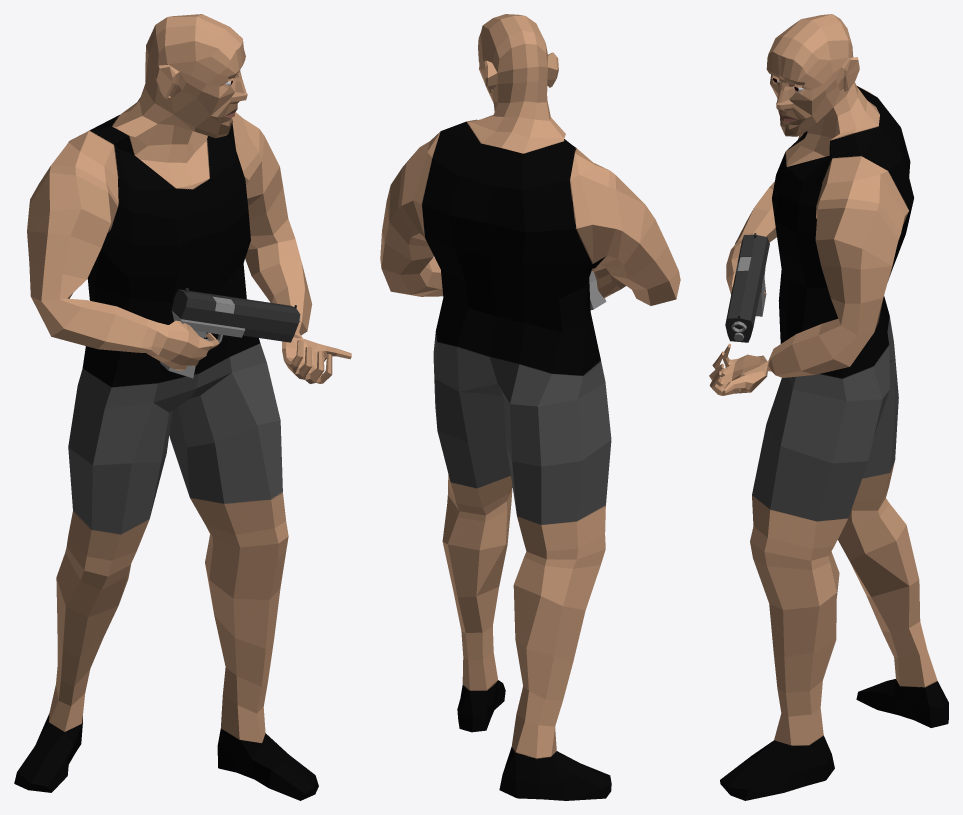
Rendered from PlayerIdle(125).obj.
3 renders of one model, left to right at view 1: azimuth 30°, elevation 25°; view 2: azimuth 150°, elevation 25°; view 3: azimuth 270°, elevation 25°, orthographic. The views are drawn at different scales.
Visible parts, largest first — view 1: Plane002, Box003; view 2: Plane002; view 3: Plane002, Box003.
Boxes of the visible parts, <box> form: Plane002: <box>14,14,351,800</box>; Box003: <box>160,288,300,378</box>; Plane002: <box>380,14,680,800</box>; Plane002: <box>709,14,948,800</box>; Box003: <box>725,233,769,342</box>.
Bounding box in the file's own units: 698 × 1798 × 529.
